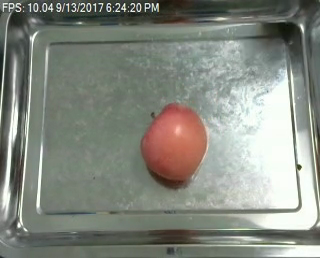Apple: (138, 101, 210, 185)
